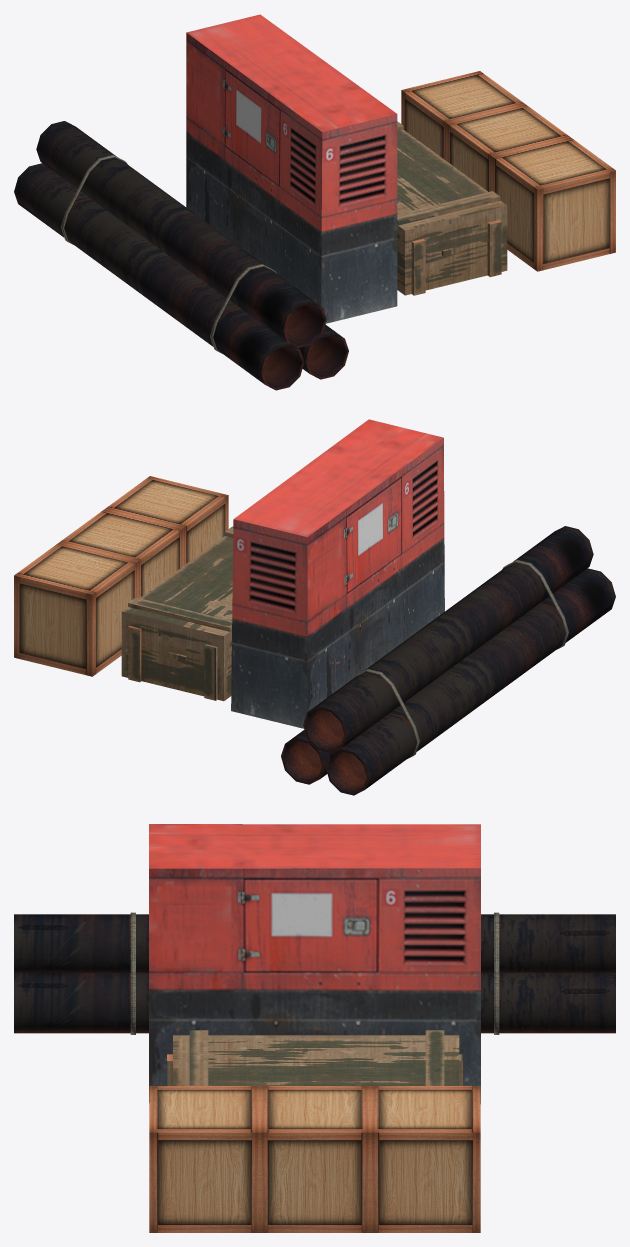
File: Props.fbx
3 views of the same model, one above another, from view 1: azimuth 30°, elevation 25°; view 2: azimuth 150°, elevation 25°; view 3: azimuth 270°, elevation 25° (orthographic). The views are drawn at different scales.
Visible parts, largest first — view 1: Generator, IronPipes, Wooden-Box001, Miltary-Box; view 2: Generator, IronPipes, Wooden-Box001, Miltary-Box; view 3: Generator, Wooden-Box001, IronPipes, Miltary-Box.
Part boxes in pixels (<box>): Generator: <box>186,14,397,323</box>; IronPipes: <box>14,121,348,390</box>; Wooden-Box001: <box>401,71,615,271</box>; Miltary-Box: <box>397,121,507,295</box>; Generator: <box>231,419,444,728</box>; IronPipes: <box>281,526,615,795</box>; Wooden-Box001: <box>14,476,228,676</box>; Miltary-Box: <box>121,526,233,701</box>; Generator: <box>149,824,480,1103</box>; Wooden-Box001: <box>149,1086,480,1232</box>; IronPipes: <box>14,912,615,1034</box>; Miltary-Box: <box>167,1030,462,1085</box>.
Bounding box in the file's own units: 157 × 70.98 × 164.
1 material, 1 textured.
